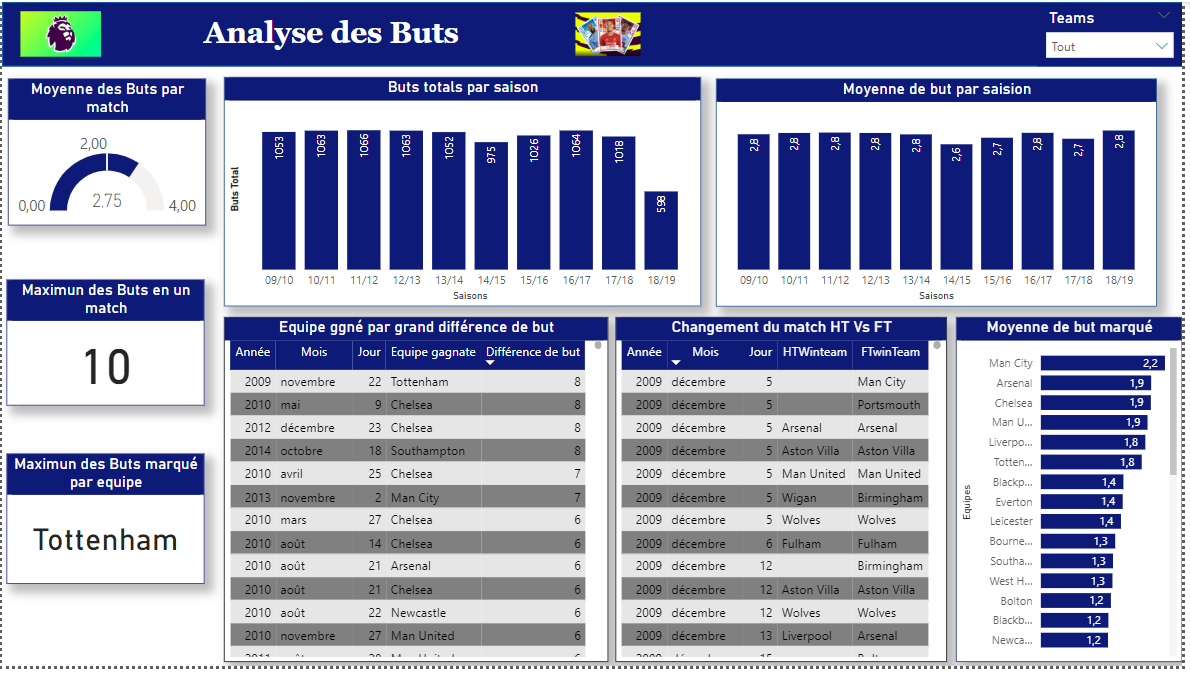

What the dashboard file says about the page in this screenshot:
{"tool":"powerbi","page":{"name":"Analyse des buts","canvas":[1280,720],"ordinal":2},"visuals":[{"type":"shape","box":[0,0,1280.1,69.9],"z":0},{"type":"textbox","box":[112.2,9.8,489.6,60.2],"z":1000},{"type":"image","box":[14.6,0,97.6,69.9],"z":2000},{"type":"image","box":[616.5,0,81.3,69.9],"z":3000},{"type":"slicer","fields":{"Values":["Teams.Teams"]},"box":[1122.3,1.6,157.8,68.3],"z":4000},{"type":"gauge","title":"Moyenne des Buts par match","fields":{"Y":["Data.M AVGGoalsPerMatch"]},"box":[6.5,83,214.7,159.4],"z":5000},{"type":"card","title":"Maximun des Buts en un match","fields":{"Values":["Max(Data.C FFTotalgoal)"]},"box":[4.9,300.9,214.7,136.6],"z":6000},{"type":"card","title":"Maximun des Buts marqué par equipe","fields":{"Values":["Data.M higgherTgoalTeam"]},"box":[4.9,489.6,214.7,141.5],"z":7000},{"type":"clusteredColumnChart","title":"Buts totals par saison","fields":{"Y":["Data.TotalGoals"],"Category":["Data.Season Year"]},"box":[240.7,81.3,517.2,248.9],"z":8000},{"type":"clusteredColumnChart","title":"Moyenne de but par saision","fields":{"Y":["Data.M AVGGoalsPerMatch"],"Category":["Data.Season Year"]},"box":[774.2,83,478.2,247.2],"z":9000},{"type":"tableEx","title":"Equipe ggné par grand différence de but","fields":{"Values":["Data.Date.Variation.Hiérarchie de dates.Année","Data.Date.Variation.Hiérarchie de dates.Mois","Data.Date.Variation.Hiérarchie de dates.Jour","Data.C FTwinTeam","Sum(Data.C HighDiffGoal)"]},"box":[240.7,341.6,416.4,374.1],"z":10000},{"type":"tableEx","title":"Changement du match HT Vs FT","fields":{"Values":["Data.Date.Variation.Hiérarchie de dates.Année","Data.Date.Variation.Hiérarchie de dates.Mois","Data.Date.Variation.Hiérarchie de dates.Jour","Data.HTWinteam","Data.FTwinTeam"]},"box":[665.3,341.6,359.5,374.1],"z":11000},{"type":"clusteredBarChart","title":"Moyenne de but marqué","fields":{"Y":["Data.M AVGGoalsPerMatch"],"Category":["Teams.Teams"]},"box":[1034.5,341.6,245.6,374.1],"z":12000}]}

Visuals, with their boxes in screenshot pixels (x1, y1, x2, y2), scaled from the page's 1280x720 canvas onto the 1190x673 screenshot:
shape: 0, 0, 1189, 65
textbox: 104, 9, 559, 65
image: 14, 0, 104, 65
image: 573, 0, 649, 65
slicer - Teams.Teams: 1043, 1, 1189, 65
"Moyenne des Buts par match" gauge: 6, 78, 206, 227
"Maximun des Buts en un match" card: 5, 281, 204, 409
"Maximun des Buts marqué par equipe" card: 5, 458, 204, 590
"Buts totals par saison" clusteredColumnChart: 224, 76, 705, 309
"Moyenne de but par saision" clusteredColumnChart: 720, 78, 1164, 309
"Equipe ggné par grand différence de but" tableEx: 224, 319, 611, 669
"Changement du match HT Vs FT" tableEx: 619, 319, 953, 669
"Moyenne de but marqué" clusteredBarChart: 962, 319, 1189, 669
